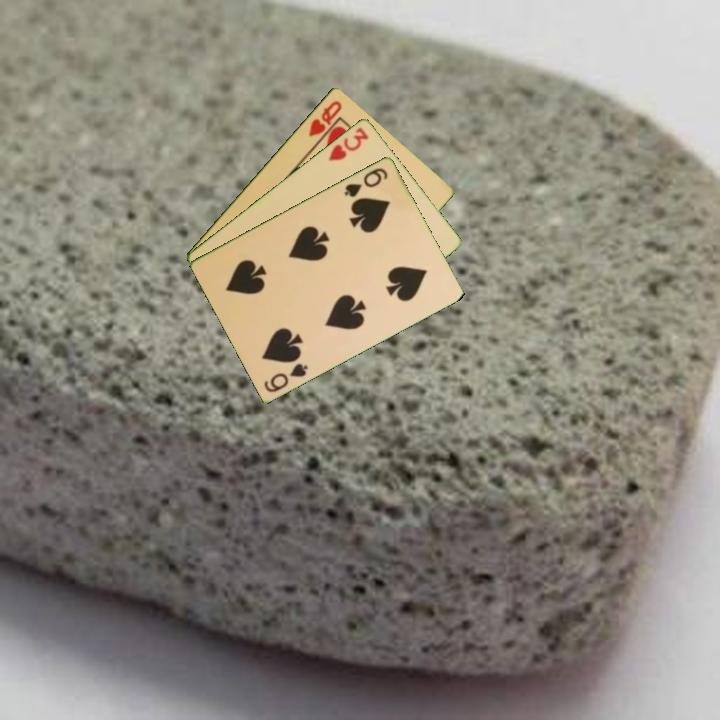3h: (325, 123, 372, 164)
6s: (260, 359, 311, 395), (341, 164, 391, 200)
Qh: (305, 96, 345, 139)
